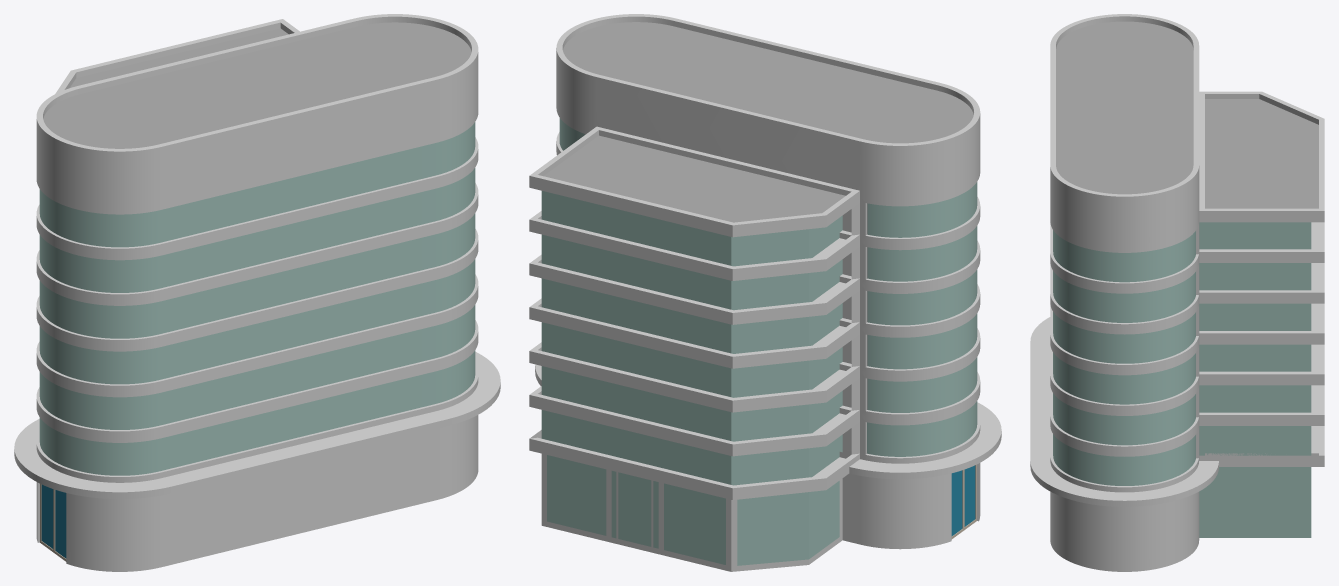
File: Com.obj
3 views of the same model, side by side, from view 1: azimuth 30°, elevation 25°; view 2: azimuth 150°, elevation 25°; view 3: azimuth 270°, elevation 25° (orthographic). The views are drawn at different scales.
Parts seen in each view (by area): view 1: Com; view 2: Com; view 3: Com.
Part boxes in pixels (box(x1,y1,x2,y2)): Com: box(14, 14, 500, 571); Com: box(529, 14, 1001, 571); Com: box(1030, 14, 1324, 571).
Size of the model in its own units: 99.24 by 87.04 by 61.8.
